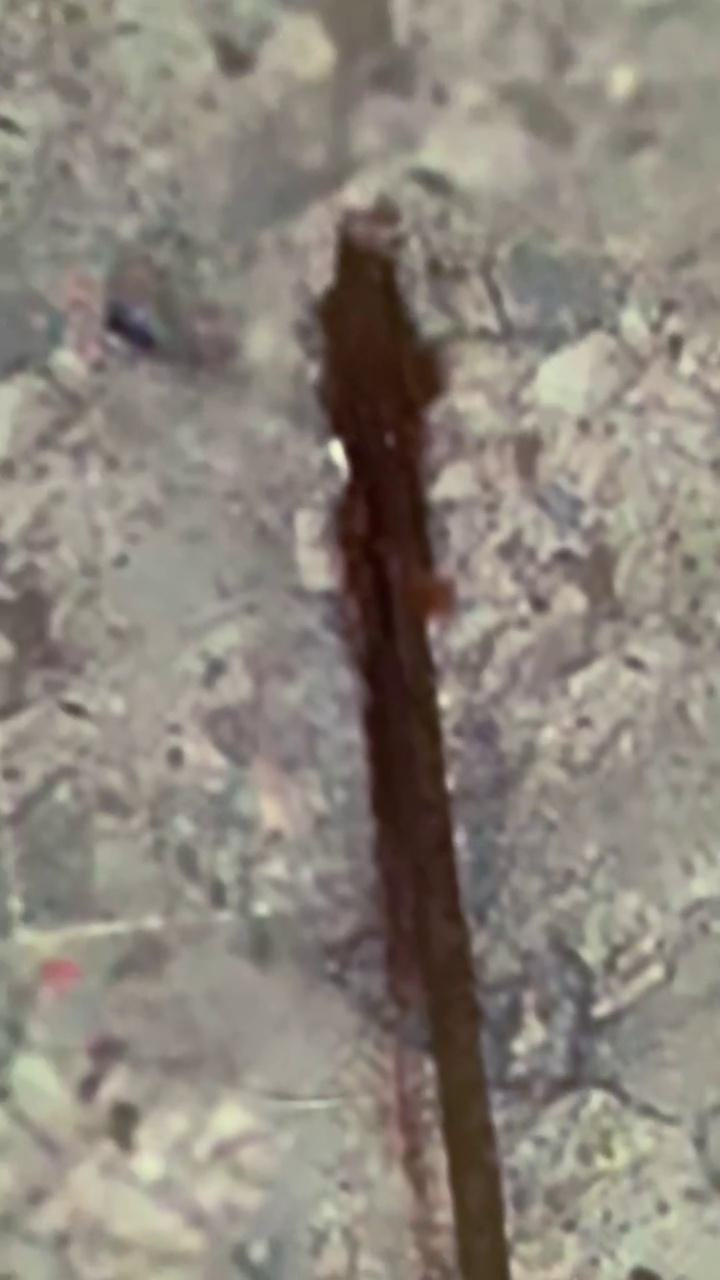Exposed reinforcement: (317, 193, 515, 1280)
